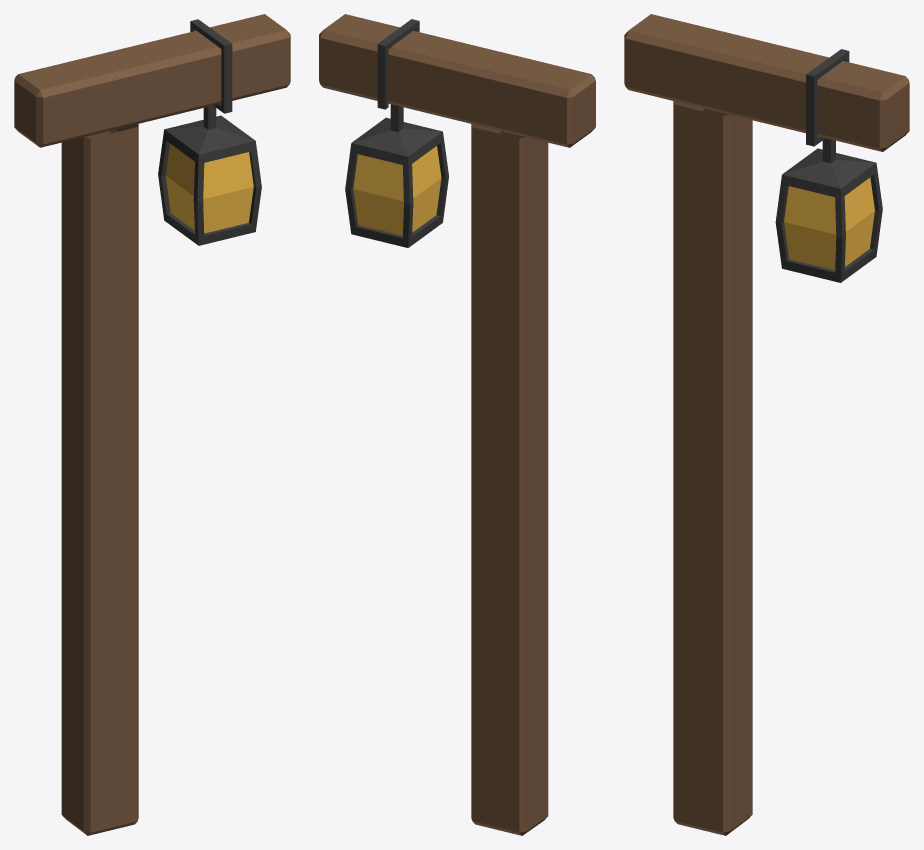
The model's file is desert_lamp.fbx.
3 views of the same model, side by side, from view 1: azimuth 30°, elevation 25°; view 2: azimuth 150°, elevation 25°; view 3: azimuth 330°, elevation 25° (orthographic). The views are drawn at different scales.
Visible parts, largest first — view 1: Street_Lamp_Base, Street_Lamp_Lamp; view 2: Street_Lamp_Base, Street_Lamp_Lamp; view 3: Street_Lamp_Base, Street_Lamp_Lamp.
Part boxes in pixels (left/top/right/bottom): Street_Lamp_Base: left=14, top=14, right=290, bottom=835; Street_Lamp_Lamp: left=158, top=19, right=261, bottom=245; Street_Lamp_Base: left=319, top=14, right=595, bottom=835; Street_Lamp_Lamp: left=345, top=19, right=448, bottom=247; Street_Lamp_Base: left=624, top=14, right=909, bottom=835; Street_Lamp_Lamp: left=775, top=49, right=882, bottom=282.
Size of the model in its own units: 96.96 by 277 by 26.01.
